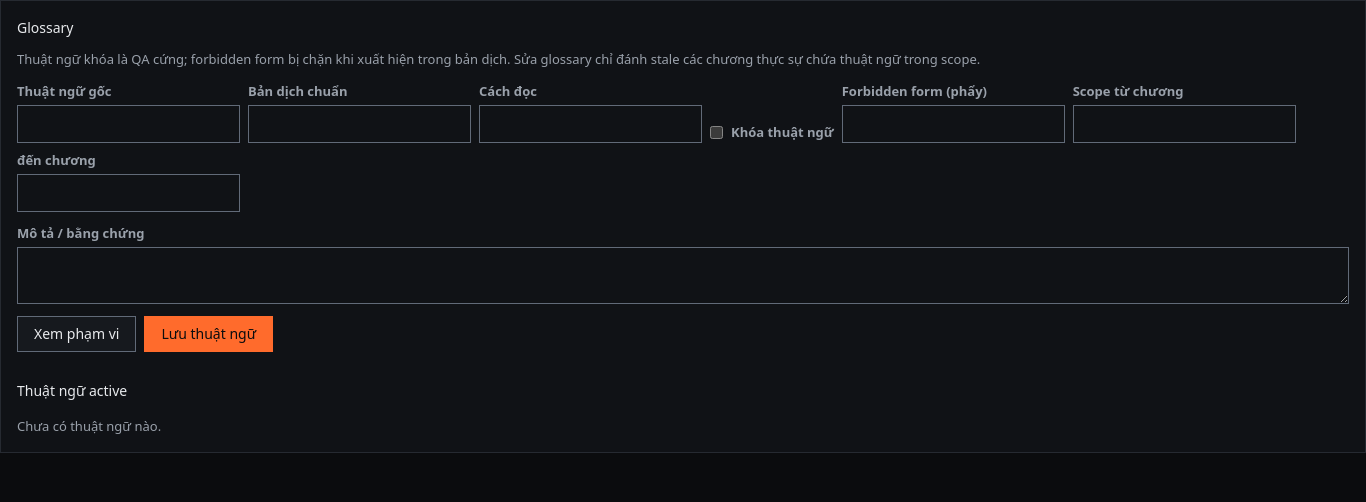
Test: GlossaryManager (U09 part 2) › surfaces backend conflict errors as alerts
Expected: the text "Chưa có thuật ngữ nào." is shown, [17,416,161,434]
Step 1. Type "林动" into the field labelled "Thuật ngữ gốc" → (128, 124), box [17,105,240,142]
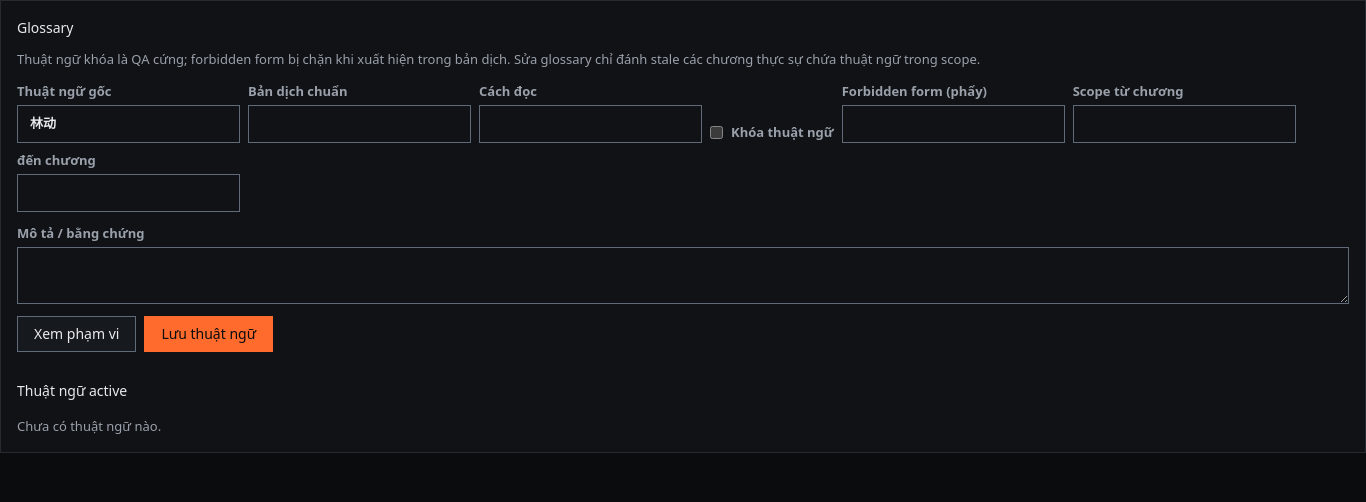
Step 2. Type "Lâm Động" into the field labelled "Bản dịch chuẩn" → (360, 124), box [248,105,471,142]
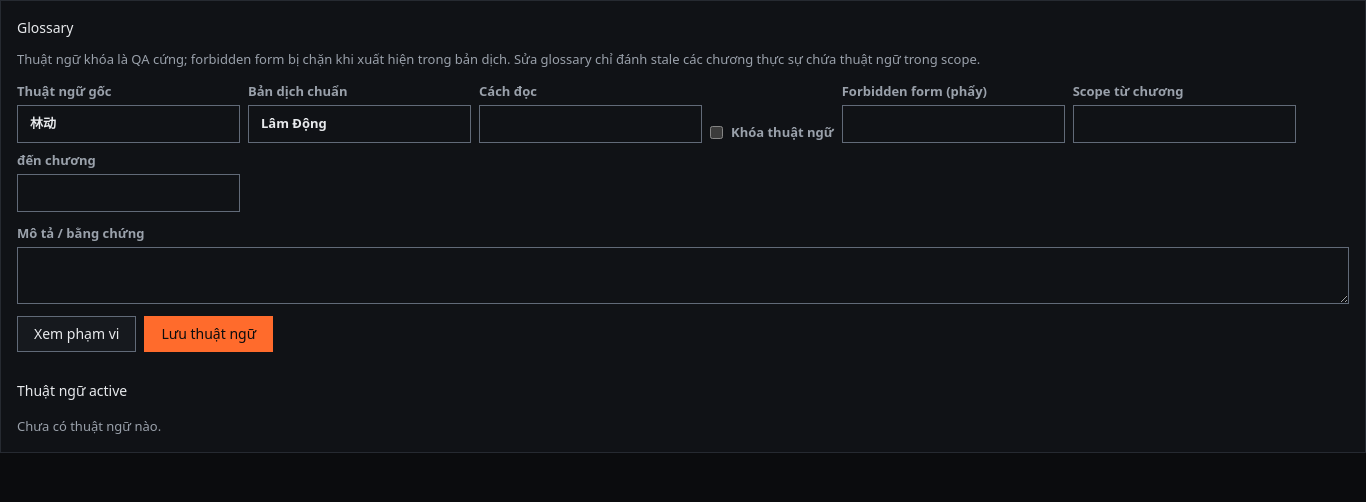
Step 3. Click the button "Lưu thuật ngữ" → (209, 334), box [144,316,273,352]
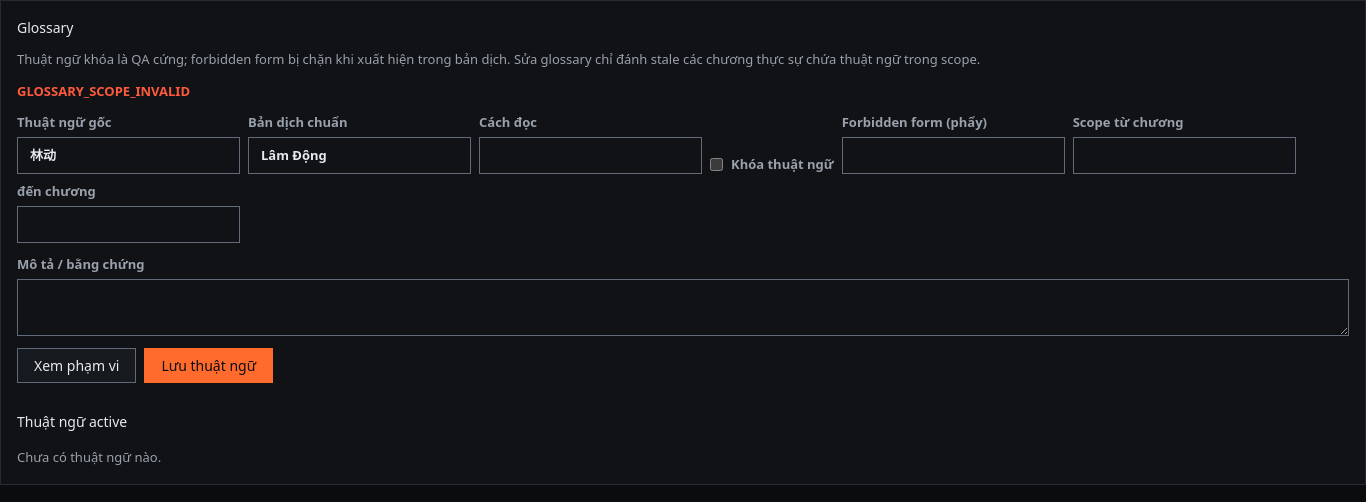
Now the message reads "GLOSSARY_SCOPE_INVALID", box [17,82,190,100]
